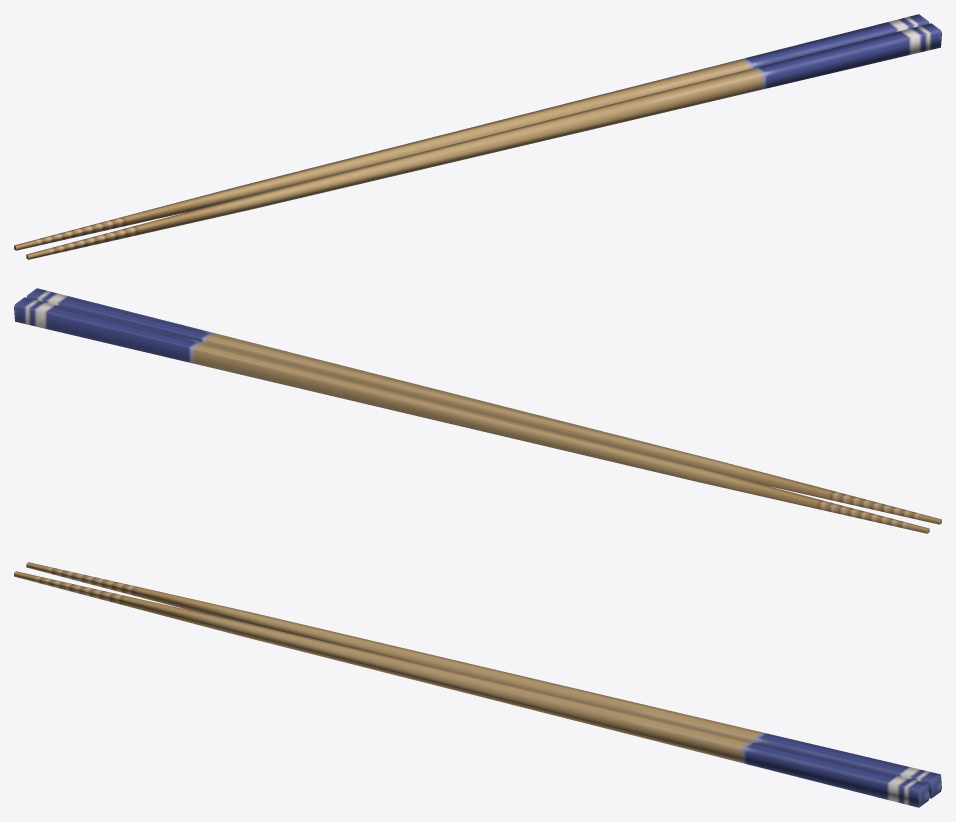
The model's file is KR_Large_chopsticks_01_02.fbx.
3 views of the same model, one above another, from view 1: azimuth 30°, elevation 25°; view 2: azimuth 150°, elevation 25°; view 3: azimuth 330°, elevation 25° (orthographic).
Visible parts, largest first — view 1: large_chopsticks_01, large_chopsticks_02; view 2: large_chopsticks_02, large_chopsticks_01; view 3: large_chopsticks_01, large_chopsticks_02.
Boxes of the visible parts, box(x1,y1,x2,y2) form: large_chopsticks_01: box(26, 23, 941, 259); large_chopsticks_02: box(14, 14, 928, 250); large_chopsticks_02: box(14, 297, 929, 533); large_chopsticks_01: box(27, 288, 941, 524); large_chopsticks_01: box(14, 571, 929, 807); large_chopsticks_02: box(26, 562, 941, 798).
Bounding box in the file's own units: 33 × 0.6 × 1.37.
